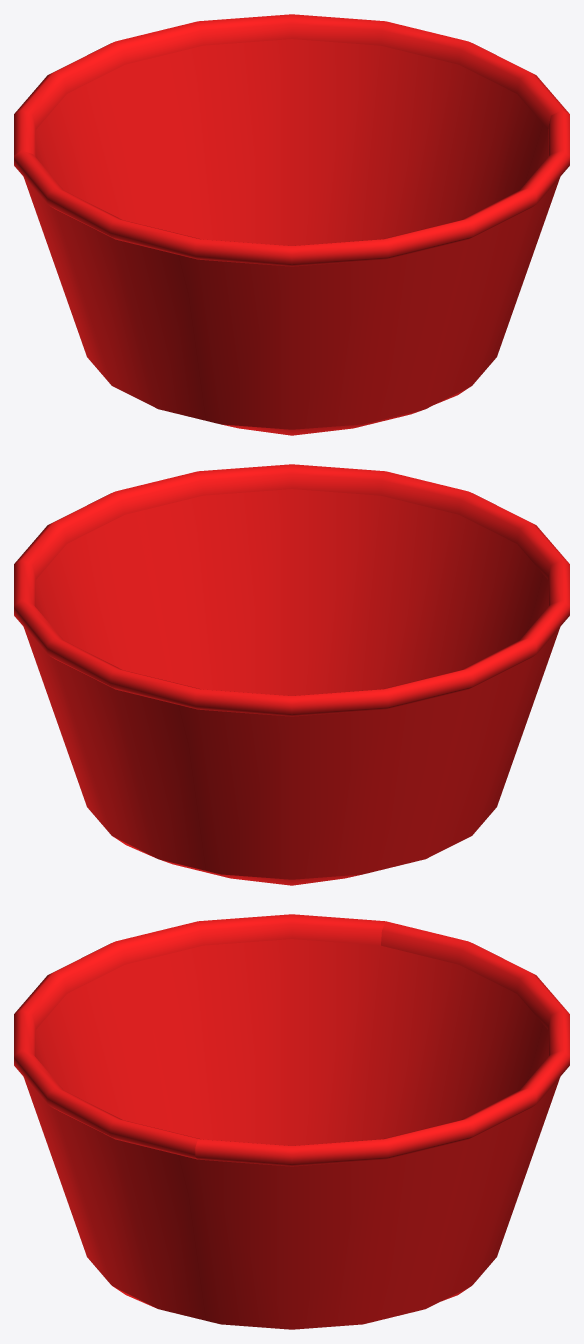
The model's file is SM_Sterilization_Container_15.FBX.
The picture shows the model from 3 angles, top to bottom: view 1: azimuth 30°, elevation 25°; view 2: azimuth 150°, elevation 25°; view 3: azimuth 270°, elevation 25°; orthographic projection.
Parts seen in each view (by area): view 1: Sterilization_Container_15; view 2: Sterilization_Container_15; view 3: Sterilization_Container_15.
Part boxes in pixels (left/top/right/bottom): Sterilization_Container_15: left=14, top=14, right=569, bottom=435; Sterilization_Container_15: left=14, top=464, right=569, bottom=885; Sterilization_Container_15: left=14, top=914, right=569, bottom=1329.
Size of the model in its own units: 9.53 by 4.23 by 9.39.
